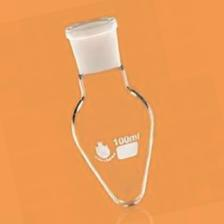Pear shaped flask: (59, 23, 154, 205)
